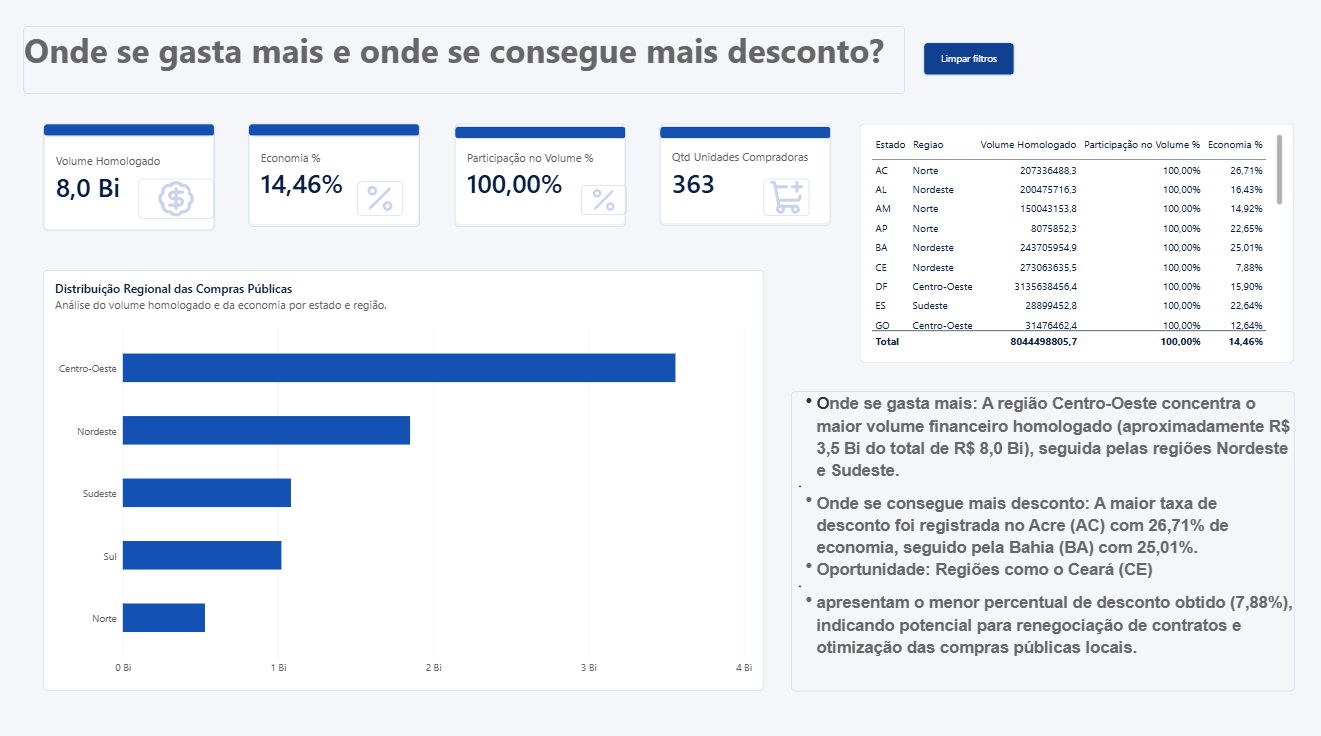

This screenshot's page, from the dashboard's own definition file:
{"tool":"powerbi","page":{"name":"Distribuição regional","canvas":[1920,1080],"ordinal":4},"visuals":[{"type":"textbox","box":[39.8,52.5,1275.8,97.7],"z":0},{"type":"cardVisual","fields":{"Data":["Medida.Volume Homologado"]},"box":[68.3,196.6,248.3,151.1],"z":1000},{"type":"cardVisual","fields":{"Data":["Medida.Economia %"]},"box":[366.3,194.5,248.3,149],"z":2000},{"type":"cardVisual","fields":{"Data":["Medida.Qtd Unidades Compradoras"]},"box":[960.2,194.5,248.3,146.9],"z":3000},{"type":"textbox","box":[1150.6,581.5,728.4,434.6],"z":4000},{"type":"tableEx","fields":{"Values":["dim_localidade.uf_sigla","dim_localidade.regiao","Medida.Volume Homologado","Medida.Participação no Volume %","Medida.Economia %"]},"box":[1249.9,194.5,629.1,345.6],"z":5000},{"type":"barChart","title":"Distribuição Regional das Compras Públicas","fields":{"Category":["dim_localidade.regiao"],"Y":["Medida.Volume Homologado"]},"box":[68.3,405.6,1043,608.4],"z":6000},{"type":"cardVisual","fields":{"Data":["Medida.Participação no Volume %"]},"box":[664.3,194.5,248.3,149],"z":7000},{"type":"image","box":[1111.3,273.2,66.2,53.8],"z":8000},{"type":"image","box":[206.9,273.2,109.7,57.9],"z":9000},{"type":"image","box":[523.6,277.3,66.2,49.7],"z":10000},{"type":"image","box":[846.4,281.4,66.2,43.5],"z":11000},{"type":"shape","box":[68.8,193.6,247.9,18.1],"z":12000},{"type":"shape","box":[960.9,197.3,247.9,18.1],"z":13000},{"type":"shape","box":[664.1,197.3,247.9,18.1],"z":14000},{"type":"shape","box":[365.6,193.6,247.9,18.1],"z":15000},{"type":"actionButton","box":[1342.8,76,132,48],"z":16001}]}

Visuals, with their boxes in screenshot pixels (x1, y1, x2, y2), scaled from the page's 1920x1080 canvas onto the 1321x736 screenshot:
textbox: BBox(27, 36, 905, 102)
cardVisual - Medida.Volume Homologado: BBox(47, 134, 218, 237)
cardVisual - Medida.Economia %: BBox(252, 133, 423, 234)
cardVisual - Medida.Qtd Unidades Compradoras: BBox(661, 133, 831, 233)
textbox: BBox(792, 396, 1293, 692)
tableEx - dim_localidade.uf_sigla x dim_localidade.regiao: BBox(860, 133, 1293, 368)
"Distribuição Regional das Compras Públicas" barChart: BBox(47, 276, 765, 691)
cardVisual - Medida.Participação no Volume %: BBox(457, 133, 628, 234)
image: BBox(765, 186, 810, 223)
image: BBox(142, 186, 218, 226)
image: BBox(360, 189, 406, 223)
image: BBox(582, 192, 628, 221)
shape: BBox(47, 132, 218, 144)
shape: BBox(661, 134, 832, 147)
shape: BBox(457, 134, 627, 147)
shape: BBox(252, 132, 422, 144)
actionButton: BBox(924, 52, 1015, 85)
